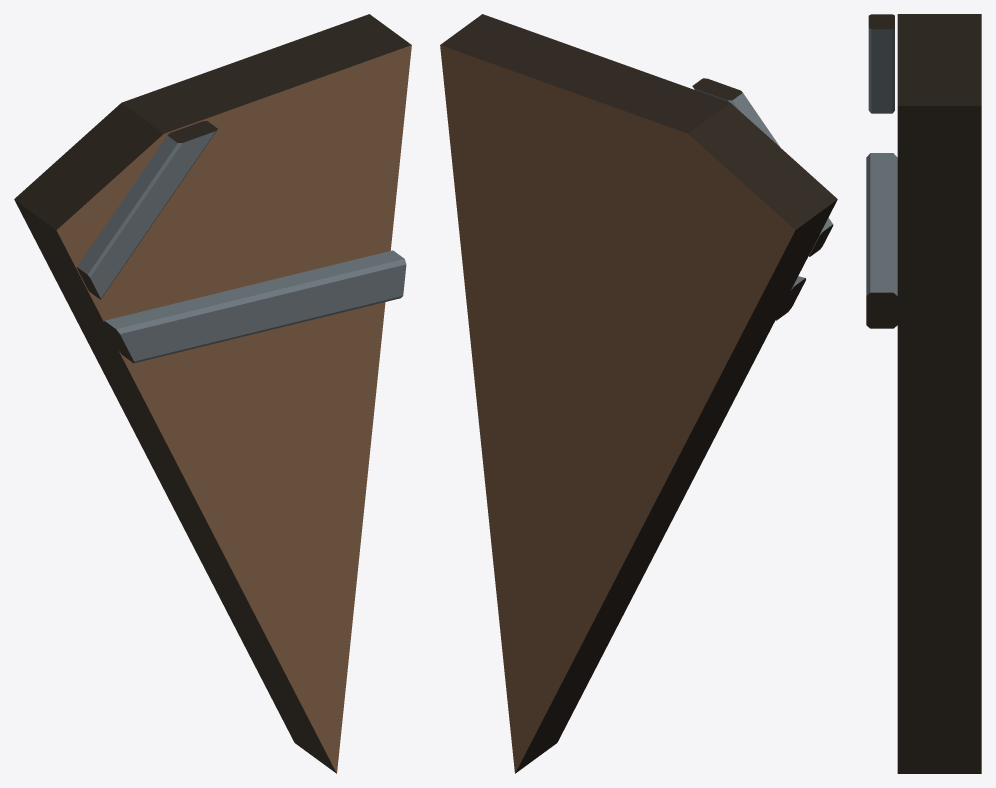
Rendered from SM_DoorShard_03_68.fbx.
3 renders of one model, left to right at view 1: azimuth 30°, elevation 25°; view 2: azimuth 150°, elevation 25°; view 3: azimuth 270°, elevation 25°, orthographic.
Visible parts, largest first — view 1: SM_DoorShard_03_68; view 2: SM_DoorShard_03_68; view 3: SM_DoorShard_03_68.
Part boxes in pixels (x1,y1,x2,y2): SM_DoorShard_03_68: (14, 14, 411, 773); SM_DoorShard_03_68: (440, 14, 837, 773); SM_DoorShard_03_68: (866, 14, 981, 773).
Size of the model in its own units: 77.39 by 22 by 148.
